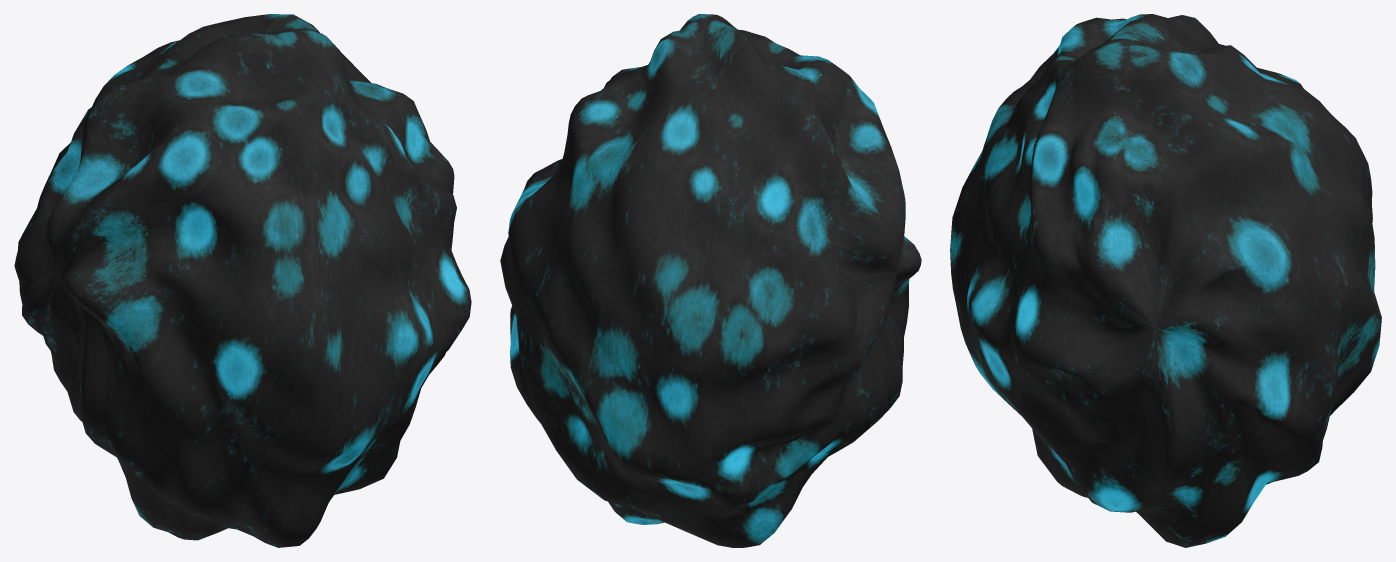
Rendered from asteroid3.glb.
3 renders of one model, left to right at view 1: azimuth 30°, elevation 25°; view 2: azimuth 150°, elevation 25°; view 3: azimuth 270°, elevation 25°, orthographic. The views are drawn at different scales.
Parts seen in each view (by area): view 1: Asteroid_3_Cyan_0; view 2: Asteroid_3_Cyan_0; view 3: Asteroid_3_Cyan_0.
Boxes of the visible parts, x1=… form: Asteroid_3_Cyan_0: x1=14, y1=14, x2=471, y2=547; Asteroid_3_Cyan_0: x1=500, y1=14, x2=921, y2=547; Asteroid_3_Cyan_0: x1=950, y1=14, x2=1381, y2=547.
Bounding box in the file's own units: 9.43 × 12.07 × 9.57.
Materials: 1 (1 with a texture image).
